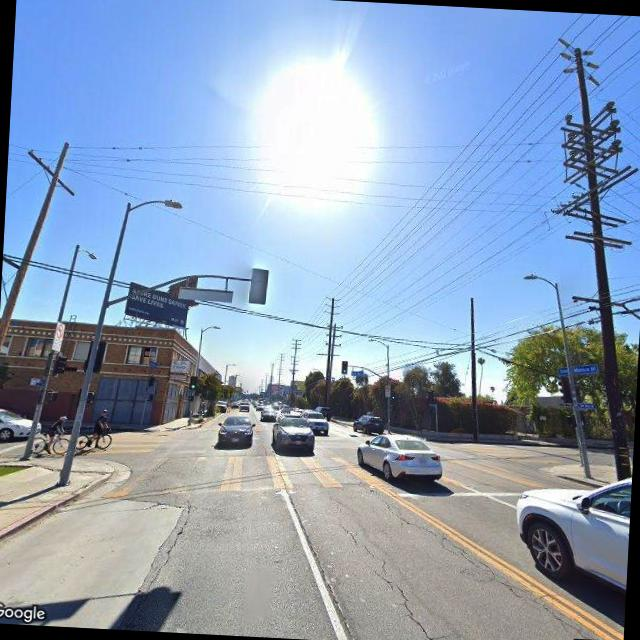pothole: (336, 487, 565, 640), (331, 518, 457, 640), (126, 498, 190, 628)
